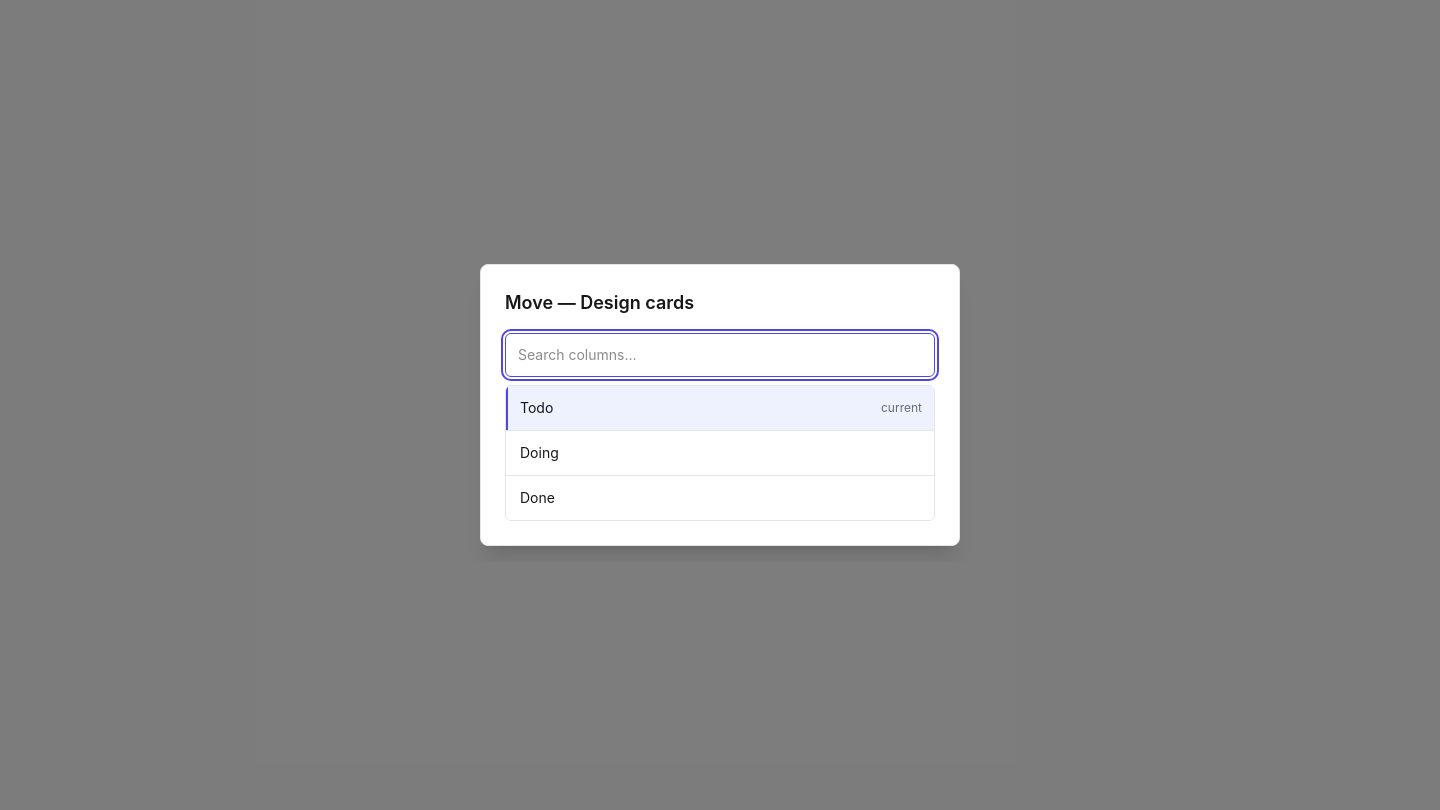
Scenario: QuickMoveMenu › offers top, bottom and a row per following card in the chosen column
Click the button "Doing".
click(539, 452)  # box [506,431,934,475]
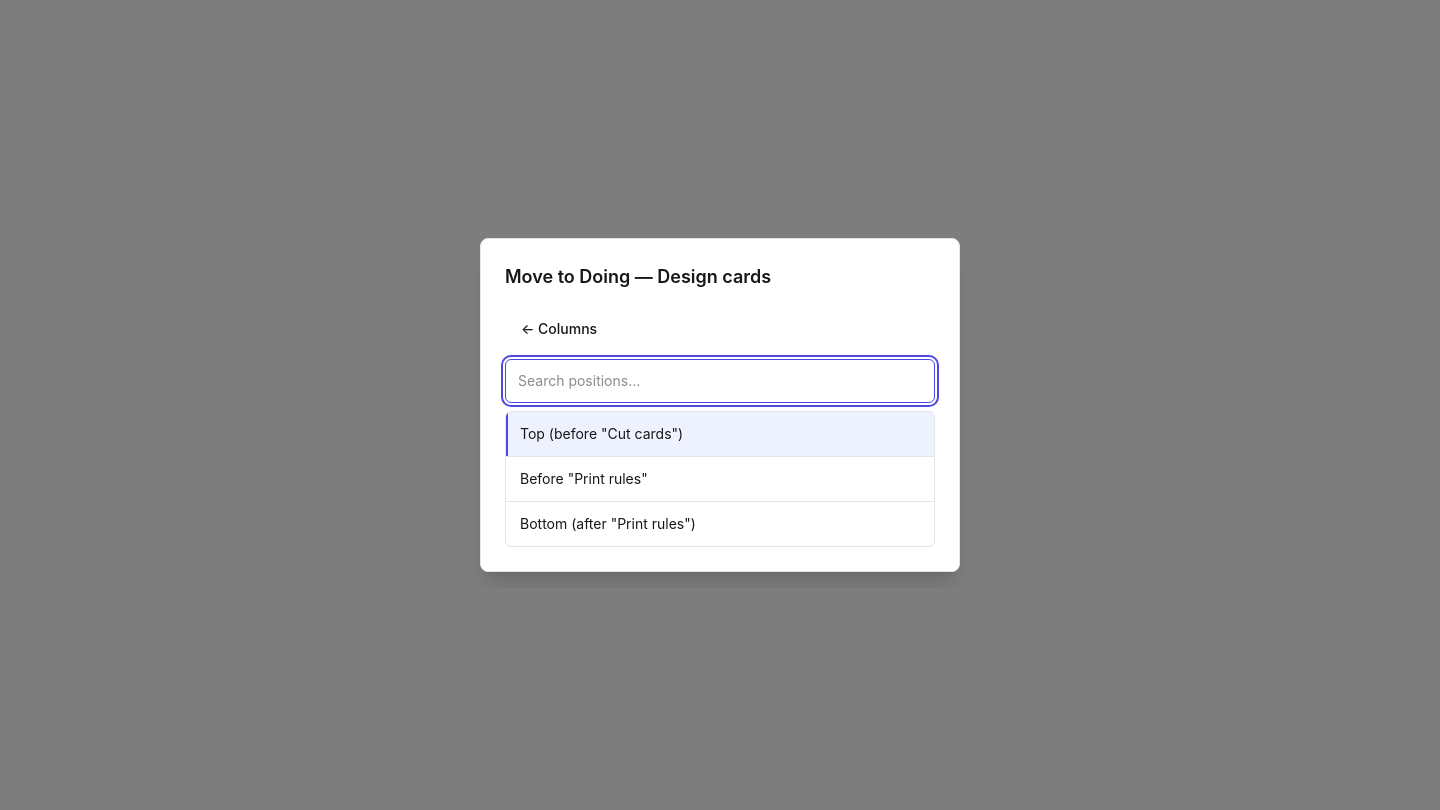
Result: the heading "Move to Doing — Design cards" is shown at [505,266,771,287]
